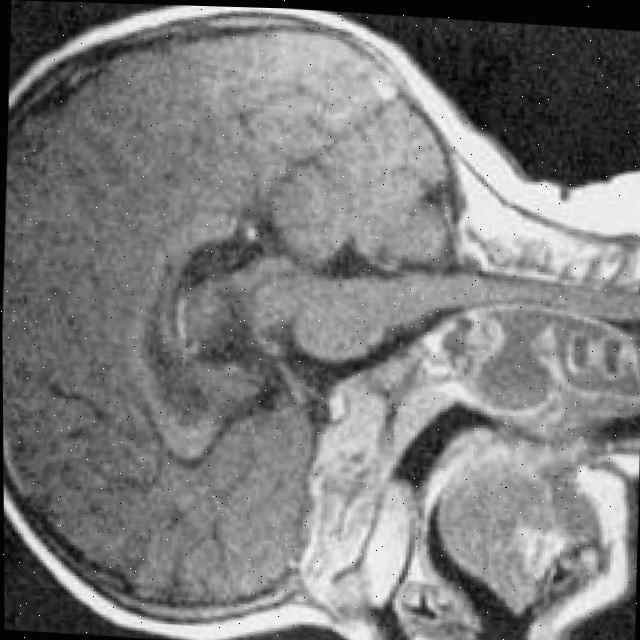NoTumor: (0, 0, 463, 640)
